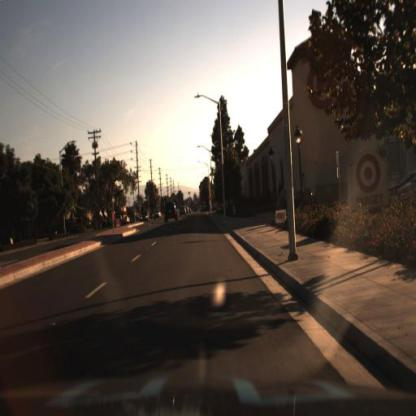car: (161, 198, 181, 227), (139, 211, 152, 226), (153, 211, 163, 224)
